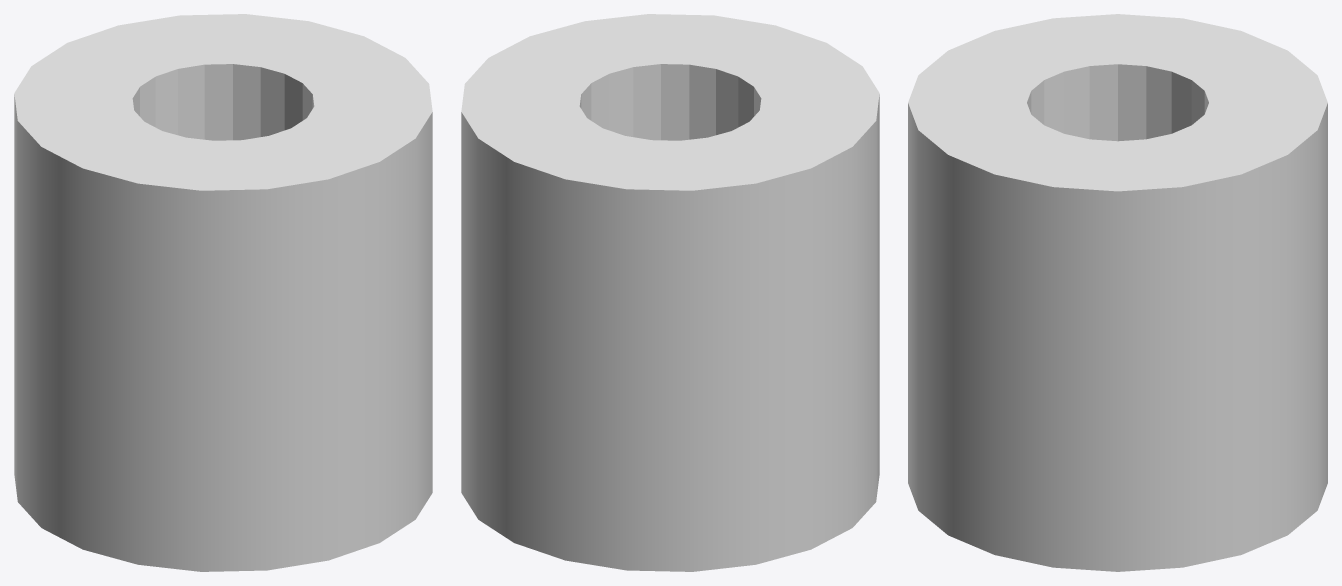
The model's file is ToiletPaper.fbx.
The picture shows the model from 3 angles, left to right: view 1: azimuth 30°, elevation 25°; view 2: azimuth 150°, elevation 25°; view 3: azimuth 270°, elevation 25°; orthographic projection.
Parts seen in each view (by area): view 1: pCylinder79; view 2: pCylinder79; view 3: pCylinder79.
Boxes of the visible parts, x1,y1,x2,y2 form: pCylinder79: (14, 14, 432, 571); pCylinder79: (461, 14, 879, 571); pCylinder79: (908, 14, 1327, 571).
Bounding box in the file's own units: 0.2076 × 0.2076 × 0.2076.
